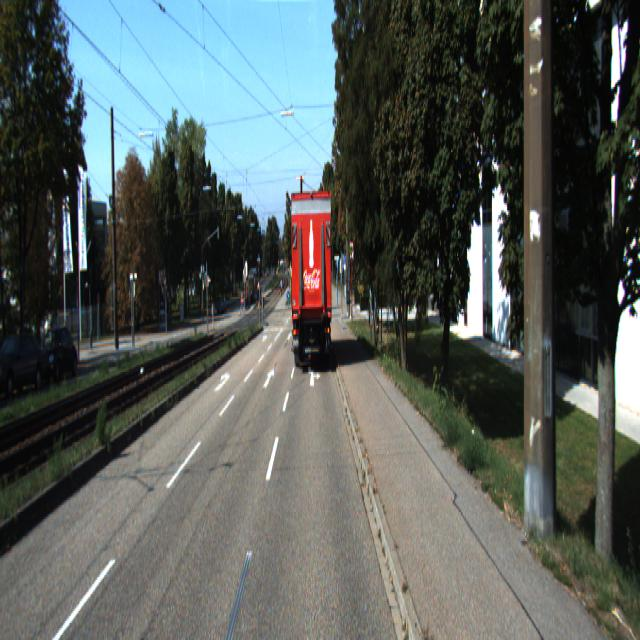Car: (288, 182, 335, 369), (0, 331, 49, 398), (36, 324, 79, 384)
